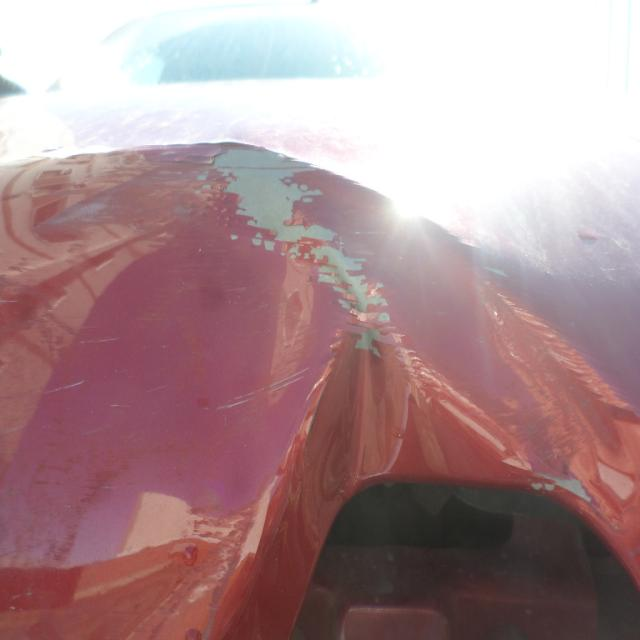Cabossage: (0, 212, 353, 632), (238, 268, 512, 639), (340, 186, 640, 524)
Rayure: (210, 137, 390, 363), (12, 305, 166, 438), (530, 463, 595, 510)
